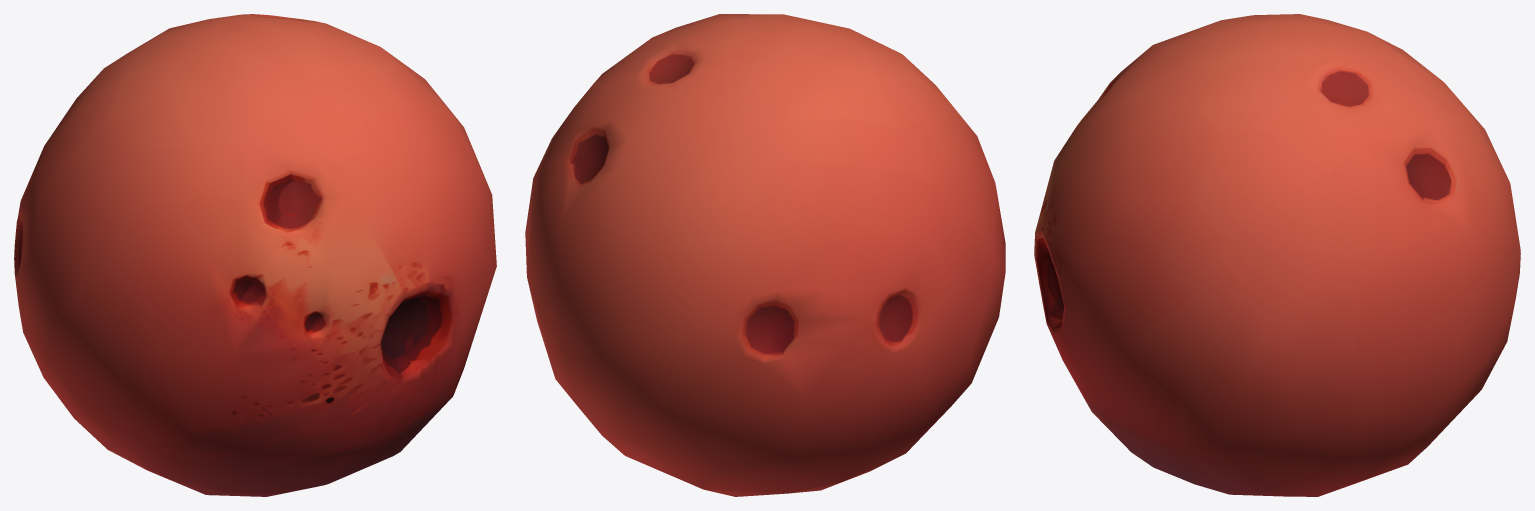
Rendered from mars_planet_20260525.glb.
3 views of the same model, side by side, from view 1: azimuth 30°, elevation 25°; view 2: azimuth 150°, elevation 25°; view 3: azimuth 270°, elevation 25° (orthographic).
Visible parts, largest first — view 1: material; view 2: material; view 3: material.
Boxes of the visible parts, x1,y1,x2,y2 form: material: [14, 14, 496, 496]; material: [525, 14, 1005, 496]; material: [1034, 14, 1520, 496].
Size of the model in its own units: 1.9 by 1.89 by 1.9.
1 material, 1 textured.
